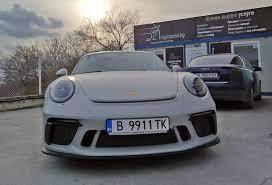registration_plate: (106, 118, 171, 133), (196, 71, 219, 79)
